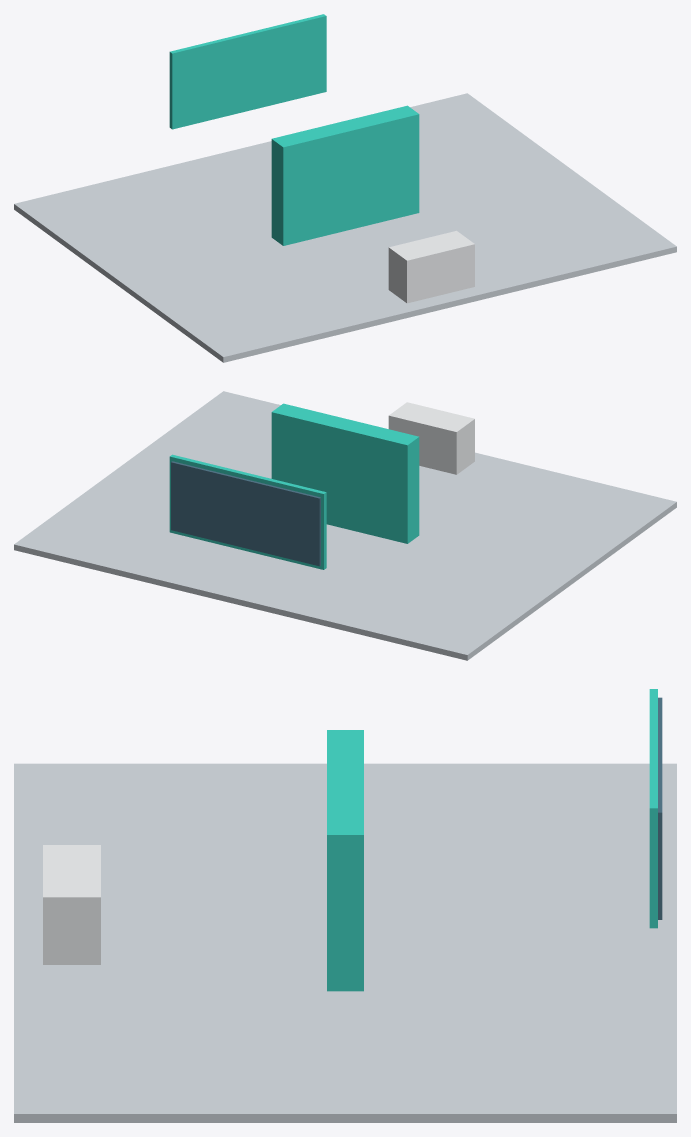
3 views of the same model, one above another, from view 1: azimuth 30°, elevation 25°; view 2: azimuth 150°, elevation 25°; view 3: azimuth 270°, elevation 25° (orthographic). The views are drawn at different scales.
Parts seen in each view (by area): view 1: Exhibition Booth Concept; view 2: Exhibition Booth Concept; view 3: Exhibition Booth Concept.
Part boxes in pixels (box(x1,y1,x2,y2)): Exhibition Booth Concept: box(14, 14, 676, 362); Exhibition Booth Concept: box(14, 391, 676, 660); Exhibition Booth Concept: box(14, 689, 676, 1122).
Size of the model in its own units: 10 by 2.65 by 8.
